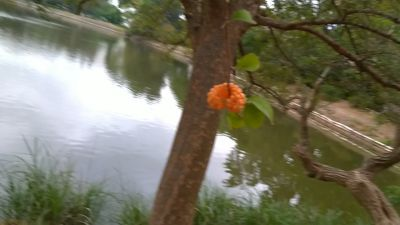eggs: (207, 81, 248, 114)
